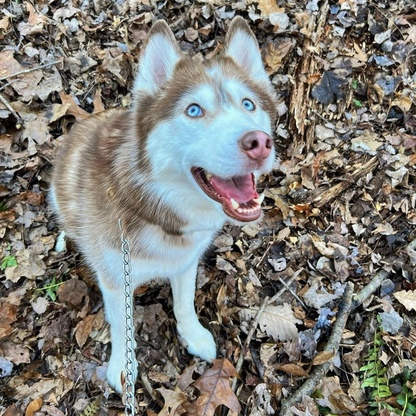husky: (43, 14, 274, 398)
